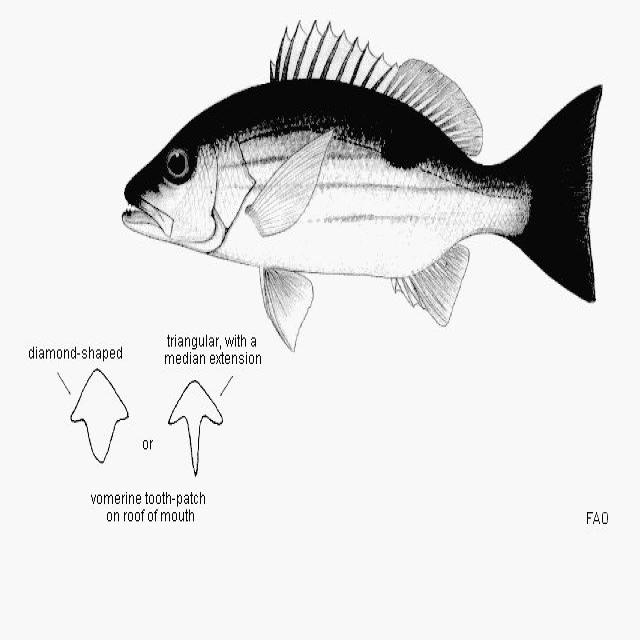ikan: (120, 17, 603, 351)
